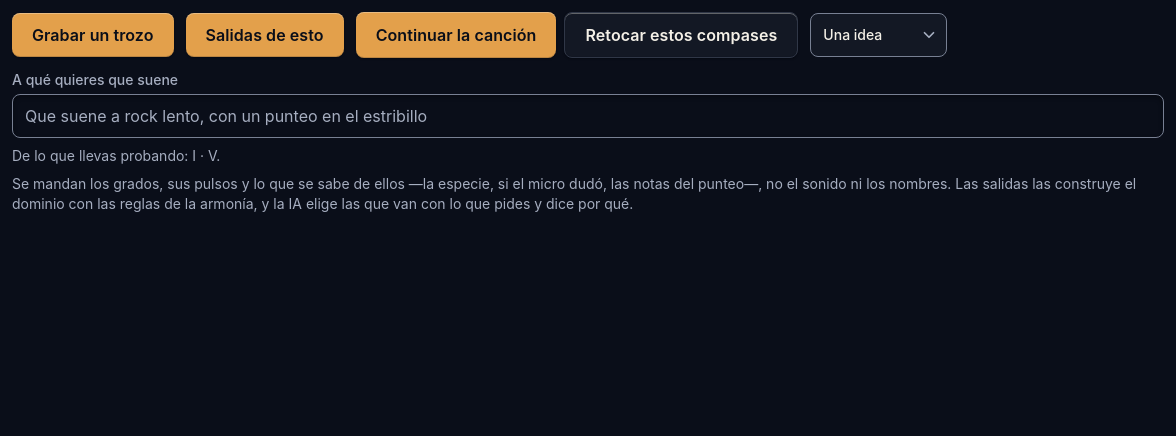
Test: lo que se enseña › cada compás cambiado dice de dónde viene y qué movimiento se le hizo
What coordinates should you click on to do the following:
click the button "Salidas de esto"
I would click on:
 (265, 35)
Its box is 186,13 -> 344,57.
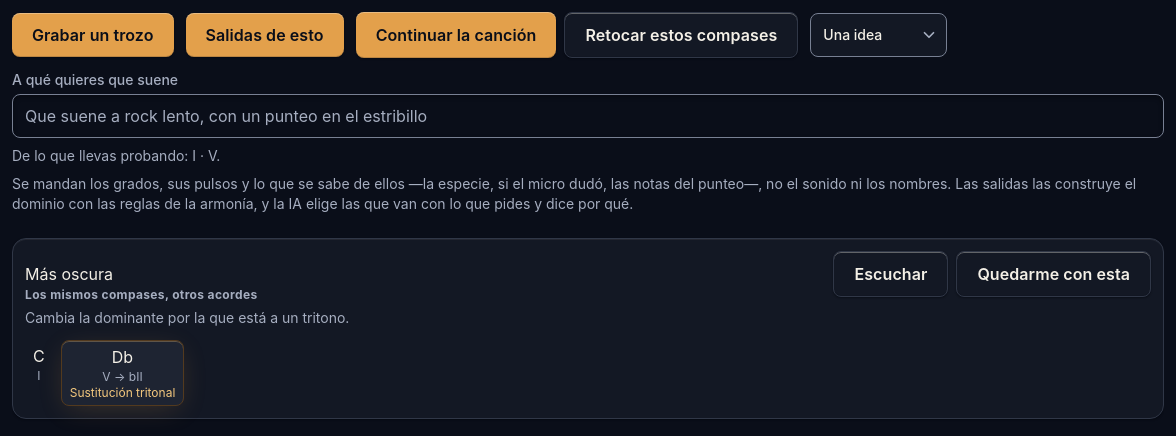
expect the heading "Más oscura" is shown: met, box 25,264 -> 113,284
expect the text "V → bII" is shown: met, box 102,369 -> 143,384
expect the text "Sustitución tritonal" is shown: met, box 70,385 -> 175,401
